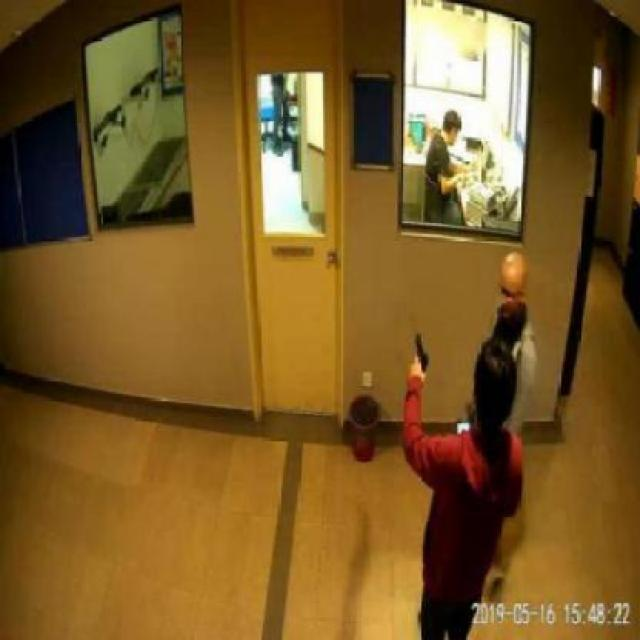gun: (408, 332, 428, 374)
